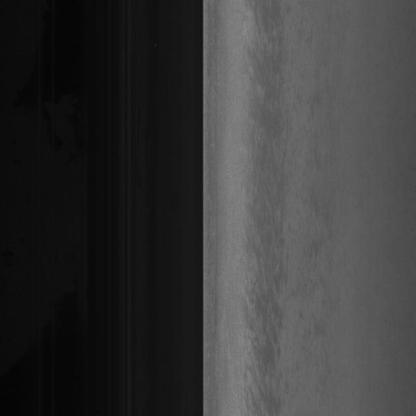silk_spot: (227, 116, 292, 357)
